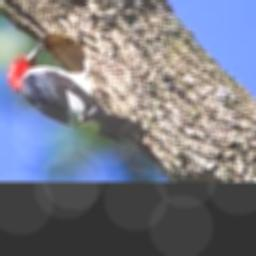Woodpecker: (7, 41, 144, 151)
